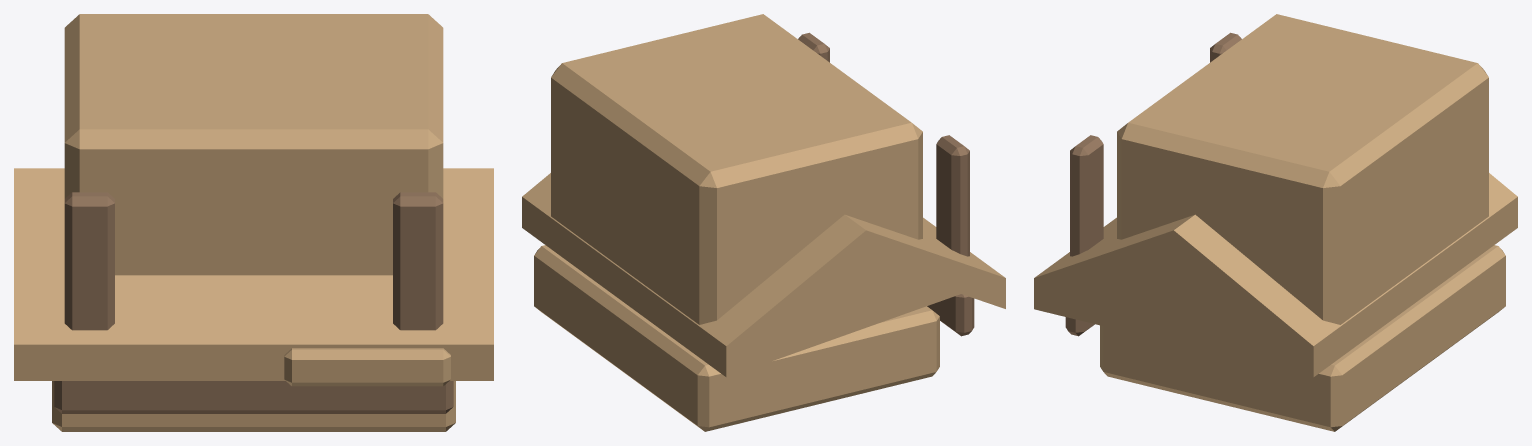
File: town_chicken_coop.glb
3 views of the same model, side by side, from view 1: azimuth 30°, elevation 25°; view 2: azimuth 150°, elevation 25°; view 3: azimuth 270°, elevation 25° (orthographic). The views are drawn at different scales.
Parts seen in each view (by area): view 1: world; view 2: world; view 3: world.
Part boxes in pixels (box(x1,y1,x2,y2)): world: box(14, 14, 493, 431); world: box(522, 14, 1005, 431); world: box(1034, 14, 1517, 431).
Size of the model in its own units: 2 by 1.08 by 1.88.
